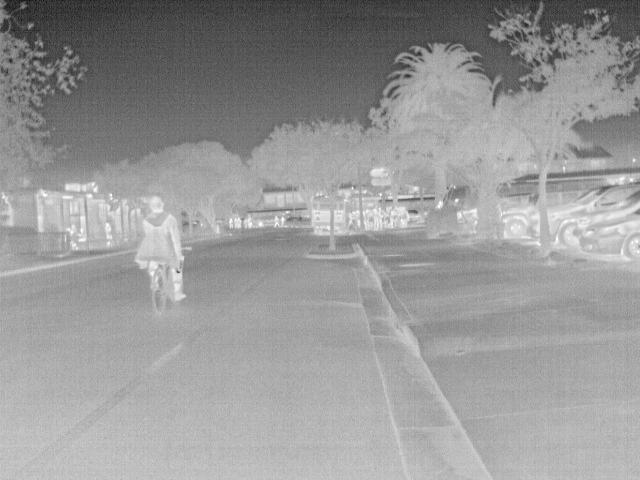car: (547, 182, 639, 248), (579, 206, 639, 262), (502, 204, 539, 241), (453, 206, 479, 232), (405, 208, 422, 224)
person: (132, 195, 190, 302), (102, 220, 114, 250), (75, 227, 88, 243), (273, 214, 281, 228), (278, 214, 285, 227)
